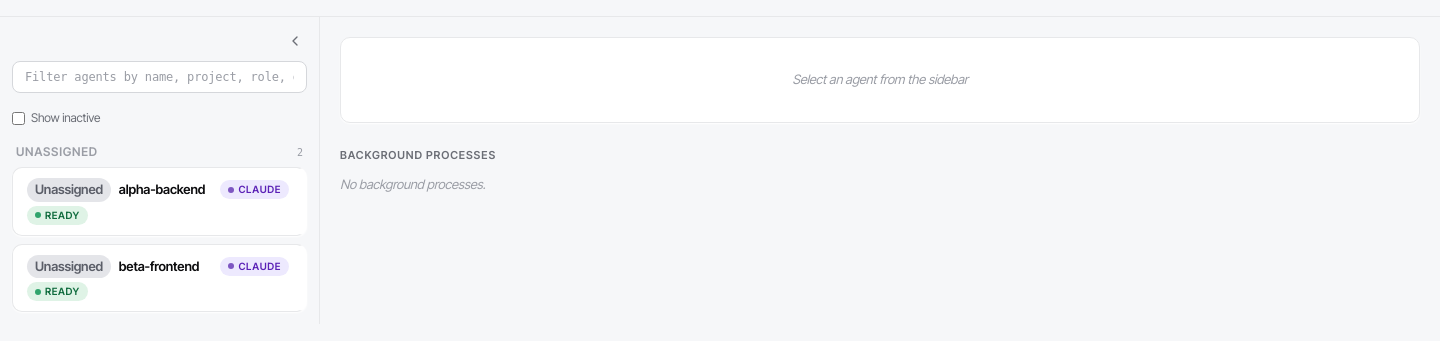
Test case: AgentList filter (integration) › typing into the filter input narrows the rendered agent cards
Expected: the text "alpha-backend" is shown, [119,180,212,200]
Expected: the text "beta-frontend" is shown, [119,256,212,276]
In the field labelled "Filter agents": (160, 77) [12,61,307,93], type "alpha"
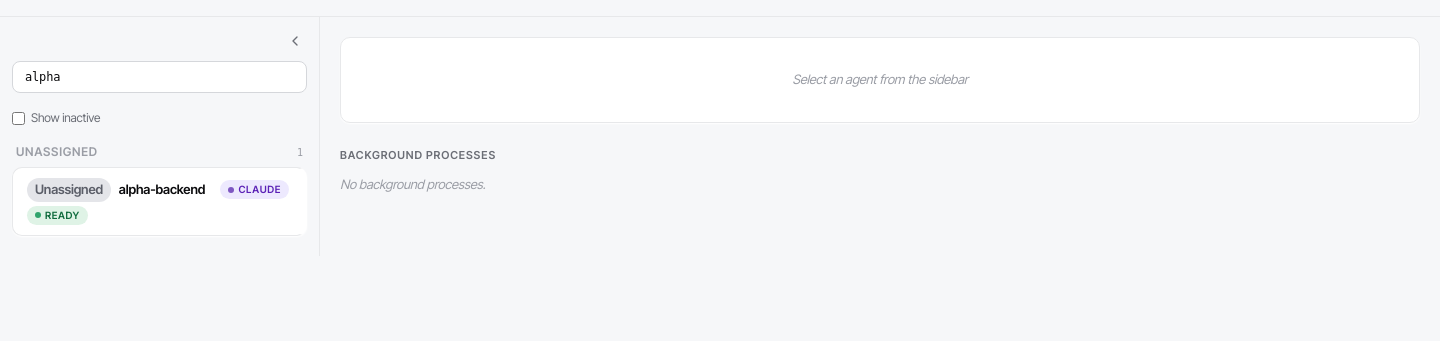
Expected: the text "alpha-backend" is shown, [119,180,212,200]
Result: the button "beta-frontend" is gone
